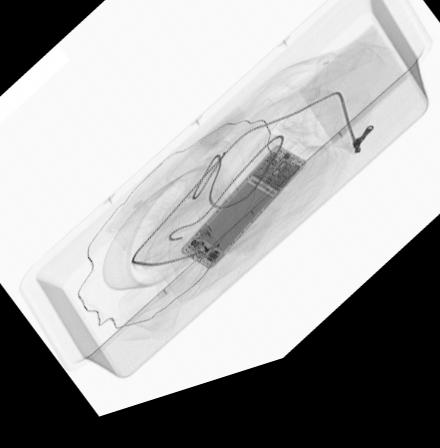Lighter: (194, 236, 220, 271)
